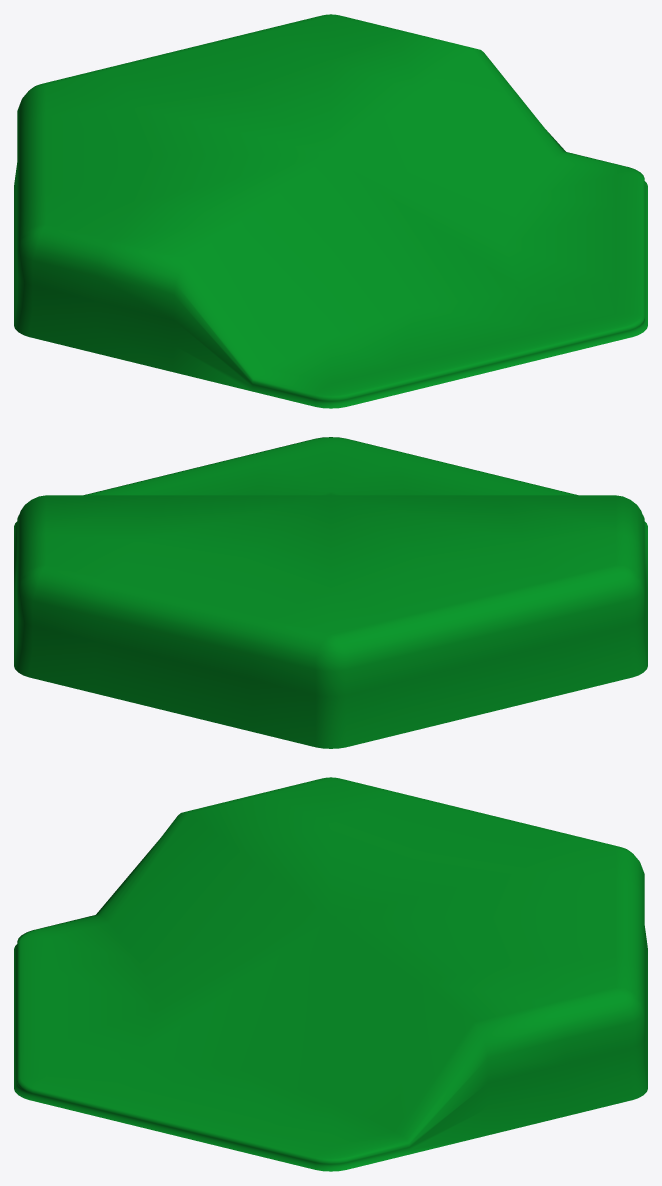
3 renders of one model, top to bottom at view 1: azimuth 30°, elevation 25°; view 2: azimuth 150°, elevation 25°; view 3: azimuth 270°, elevation 25°, orthographic.
Parts seen in each view (by area): view 1: agua; view 2: agua; view 3: agua.
Part boxes in pixels (box(x1,y1,x2,y2)): agua: box(14, 14, 647, 408); agua: box(14, 437, 647, 748); agua: box(14, 777, 647, 1171).
Bounding box in the file's own units: 207 × 31.94 × 182.
